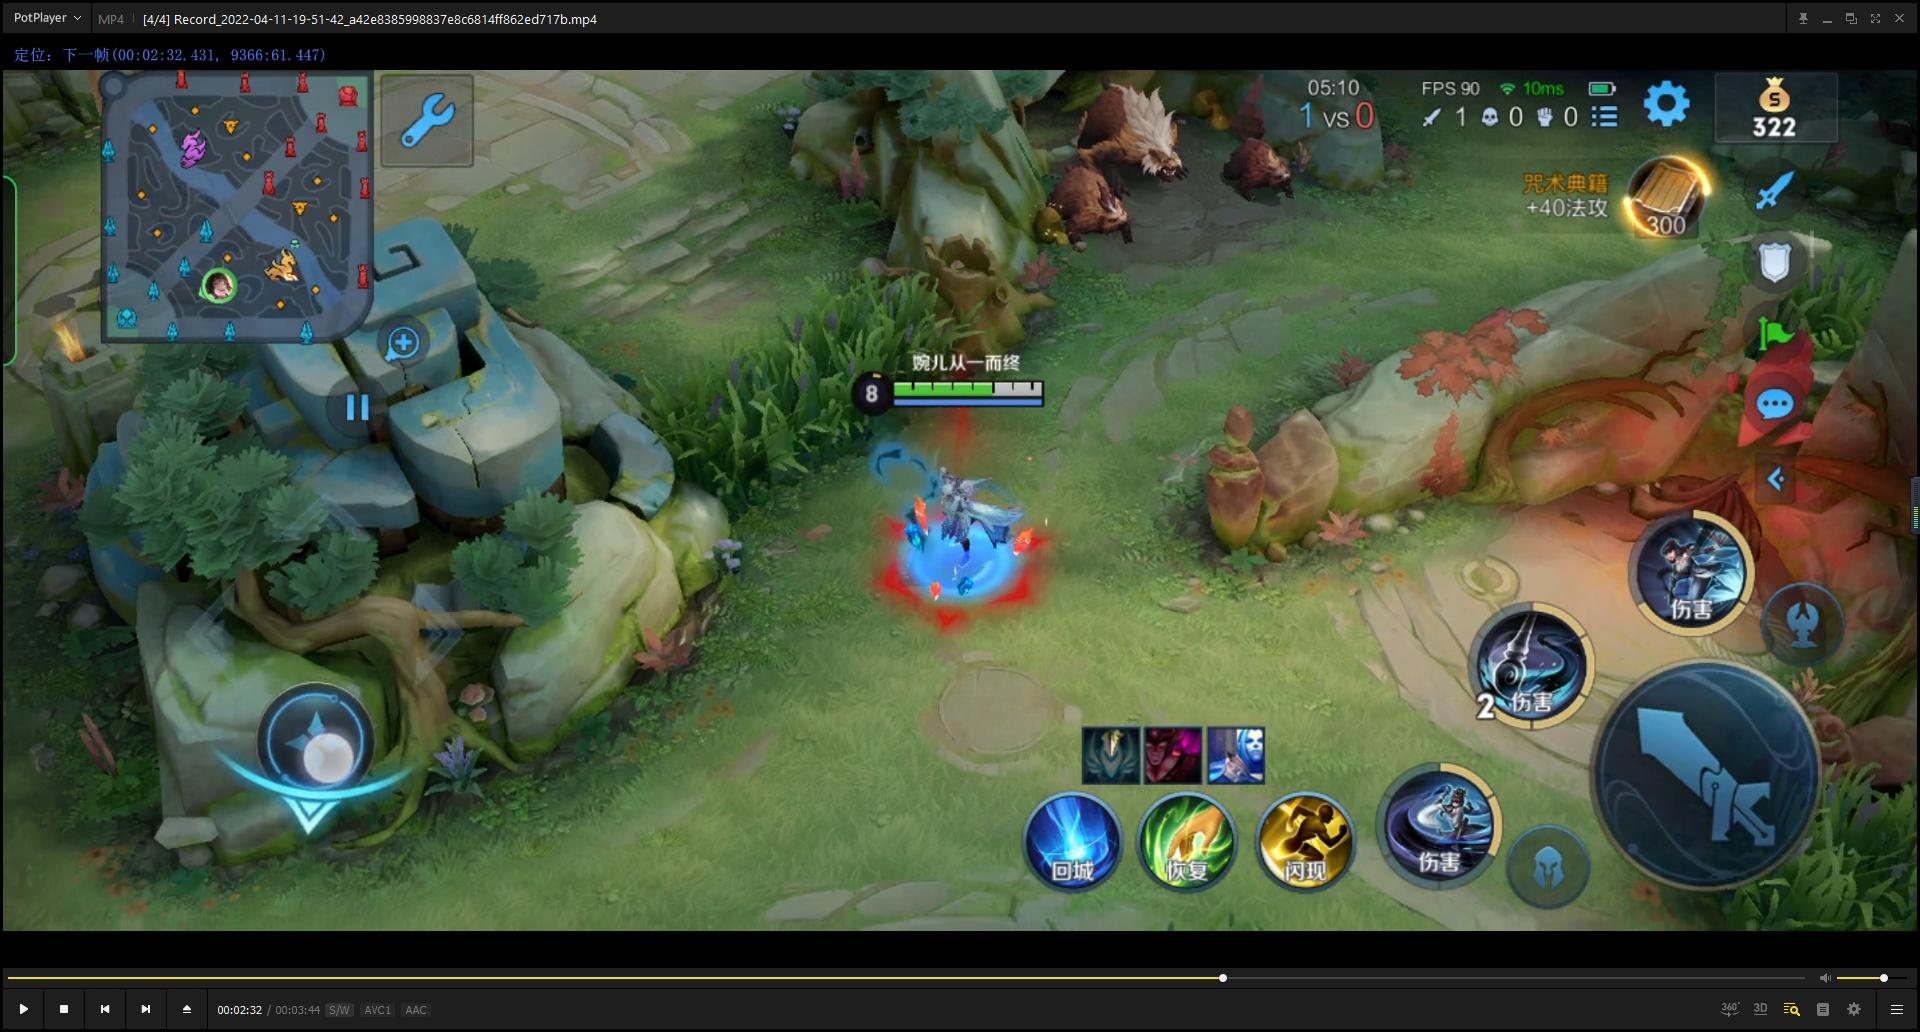Hero: (848, 444, 1076, 634)
Pig: (1053, 76, 1194, 182), (1019, 146, 1139, 245), (1212, 131, 1322, 231)
